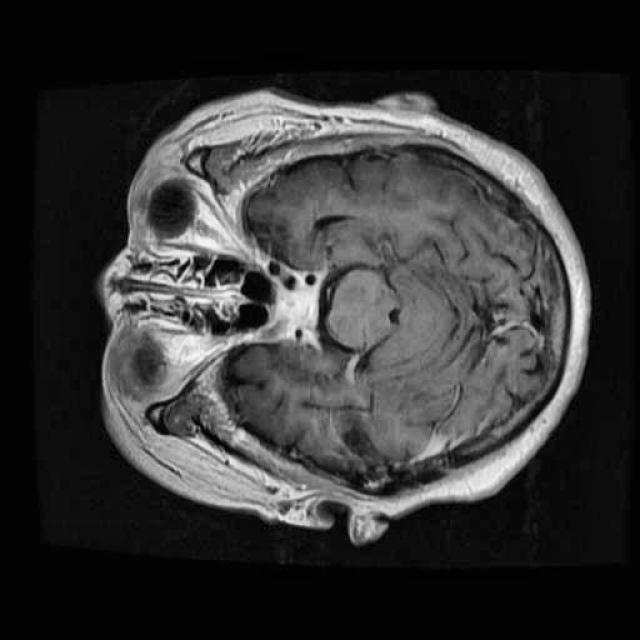Tumor: (261, 270, 329, 341)
